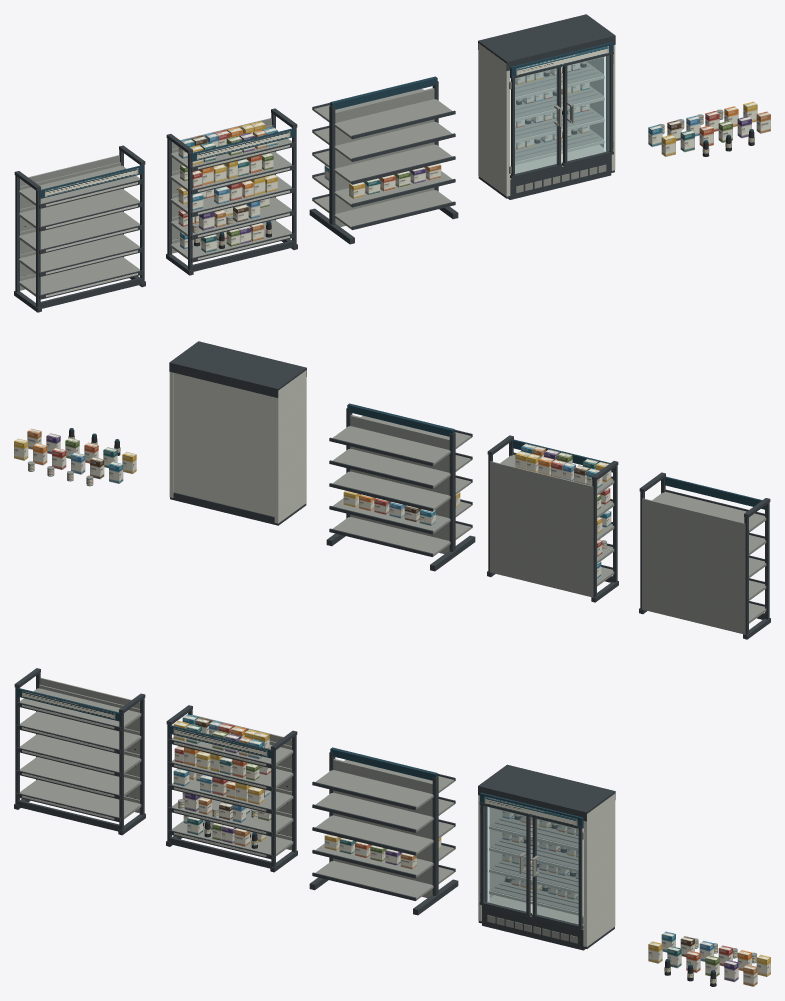
File: PZ_Market_ALL_2m_Modules_Catalog.glb
The picture shows the model from 3 angles, top to bottom: view 1: azimuth 30°, elevation 25°; view 2: azimuth 150°, elevation 25°; view 3: azimuth 330°, elevation 25°; orthographic projection.
Visible parts, largest first — view 1: Cabinet_LeftShell, DOOR_L_GlassPane, DOOR_R_GlassPane, Cabinet_Canopy, AisleMidline_BackPanel, Shelf_01_SteelTray (×2), Shelf_02_SteelTray (×2), Shelf_03_SteelTray (×2), Shelf_04_SteelTray (×2), Rear_SolidPunchedBackPanel (×2), Front_Shelf_1, Front_Shelf_3 (+19 smaller); view 2: Rear_SolidPunchedBackPanel (×2), Cabinet_InsulatedBack, Cabinet_LeftShell, Cabinet_Canopy, AisleMidline_BackPanel, Rear_Shelf_1, Rear_Shelf_3, Rear_Shelf_4, Rear_Shelf_5, Shelf_05_SteelTray, L_Upright_Front (×2), DoubleAisleTop_Sign (+5 smaller); view 3: Cabinet_RightShell, DOOR_R_GlassPane, DOOR_L_GlassPane, Cabinet_Canopy, AisleMidline_BackPanel, Shelf_01_SteelTray (×2), Shelf_02_SteelTray (×2), Shelf_03_SteelTray (×2), Shelf_04_SteelTray (×2), Rear_SolidPunchedBackPanel (×2), Front_Shelf_3, Front_Shelf_4 (+18 smaller).
Boxes of the visible parts, bbox=[...] form: Cabinet_LeftShell: bbox=[478, 43, 510, 196]; DOOR_L_GlassPane: bbox=[515, 68, 557, 173]; DOOR_R_GlassPane: bbox=[567, 55, 609, 160]; Cabinet_Canopy: bbox=[478, 14, 615, 70]; AisleMidline_BackPanel: bbox=[335, 88, 434, 226]; Shelf_01_SteelTray (×2): bbox=[18, 220, 291, 296]; Shelf_02_SteelTray (×2): bbox=[18, 197, 291, 273]; Shelf_03_SteelTray (×2): bbox=[18, 174, 291, 250]; Shelf_04_SteelTray (×2): bbox=[18, 151, 291, 228]; Rear_SolidPunchedBackPanel (×2): bbox=[20, 118, 271, 290]; Front_Shelf_1: bbox=[334, 190, 452, 229]; Front_Shelf_3: bbox=[334, 144, 452, 183]; Rear_SolidPunchedBackPanel (×2): bbox=[490, 461, 745, 634]; Cabinet_InsulatedBack: bbox=[173, 372, 274, 516]; Cabinet_LeftShell: bbox=[274, 370, 306, 523]; Cabinet_Canopy: bbox=[169, 341, 306, 397]; AisleMidline_BackPanel: bbox=[350, 415, 449, 553]; Rear_Shelf_1: bbox=[332, 517, 450, 556]; Rear_Shelf_3: bbox=[332, 471, 450, 510]; Rear_Shelf_4: bbox=[332, 448, 450, 488]; Rear_Shelf_5: bbox=[333, 426, 450, 465]; Shelf_05_SteelTray: bbox=[652, 491, 766, 532]; L_Upright_Front (×2): bbox=[613, 465, 769, 619]; DoubleAisleTop_Sign: bbox=[347, 403, 454, 436]; Cabinet_RightShell: bbox=[583, 794, 615, 946]; DOOR_R_GlassPane: bbox=[536, 819, 578, 923]; DOOR_L_GlassPane: bbox=[484, 806, 525, 911]; Cabinet_Canopy: bbox=[478, 764, 615, 821]; AisleMidline_BackPanel: bbox=[333, 759, 432, 897]; Shelf_01_SteelTray (×2): bbox=[20, 779, 293, 856]; Shelf_02_SteelTray (×2): bbox=[20, 757, 293, 833]; Shelf_03_SteelTray (×2): bbox=[20, 734, 293, 810]; Shelf_04_SteelTray (×2): bbox=[20, 711, 293, 787]; Rear_SolidPunchedBackPanel (×2): bbox=[40, 678, 291, 850]; Front_Shelf_3: bbox=[315, 815, 433, 854]; Front_Shelf_4: bbox=[315, 792, 433, 832].
Bounding box in the file's own units: 13.57 × 2.46 × 1.3.
8 materials, 8 textured.
